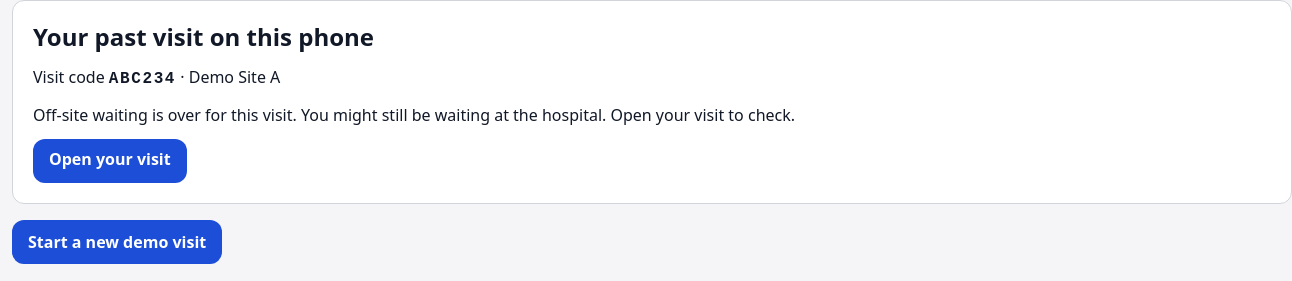
Test case: StartVisit focus after 'Start a new demo visit' › moves focus to the start heading when both sites are paused (StrictMode)
Click the button "Start a new demo visit". click: (117, 242)
box: [12,220,222,264]
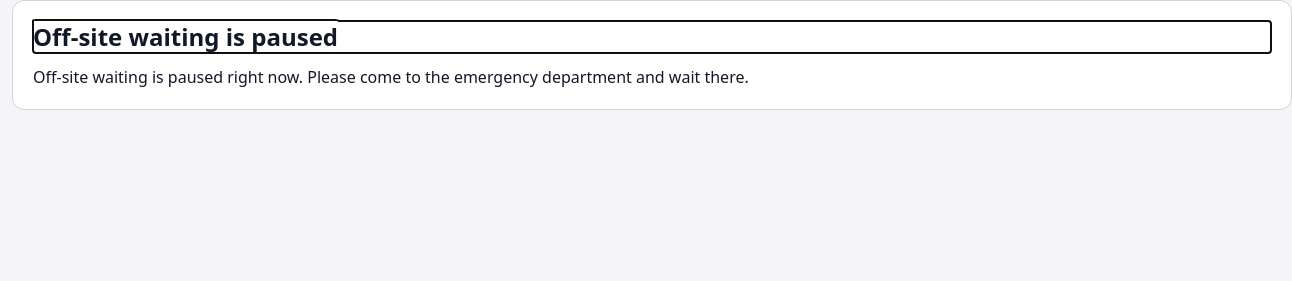
Check: the element with test id "start-paused" is shown, box [12,0,1291,110]
